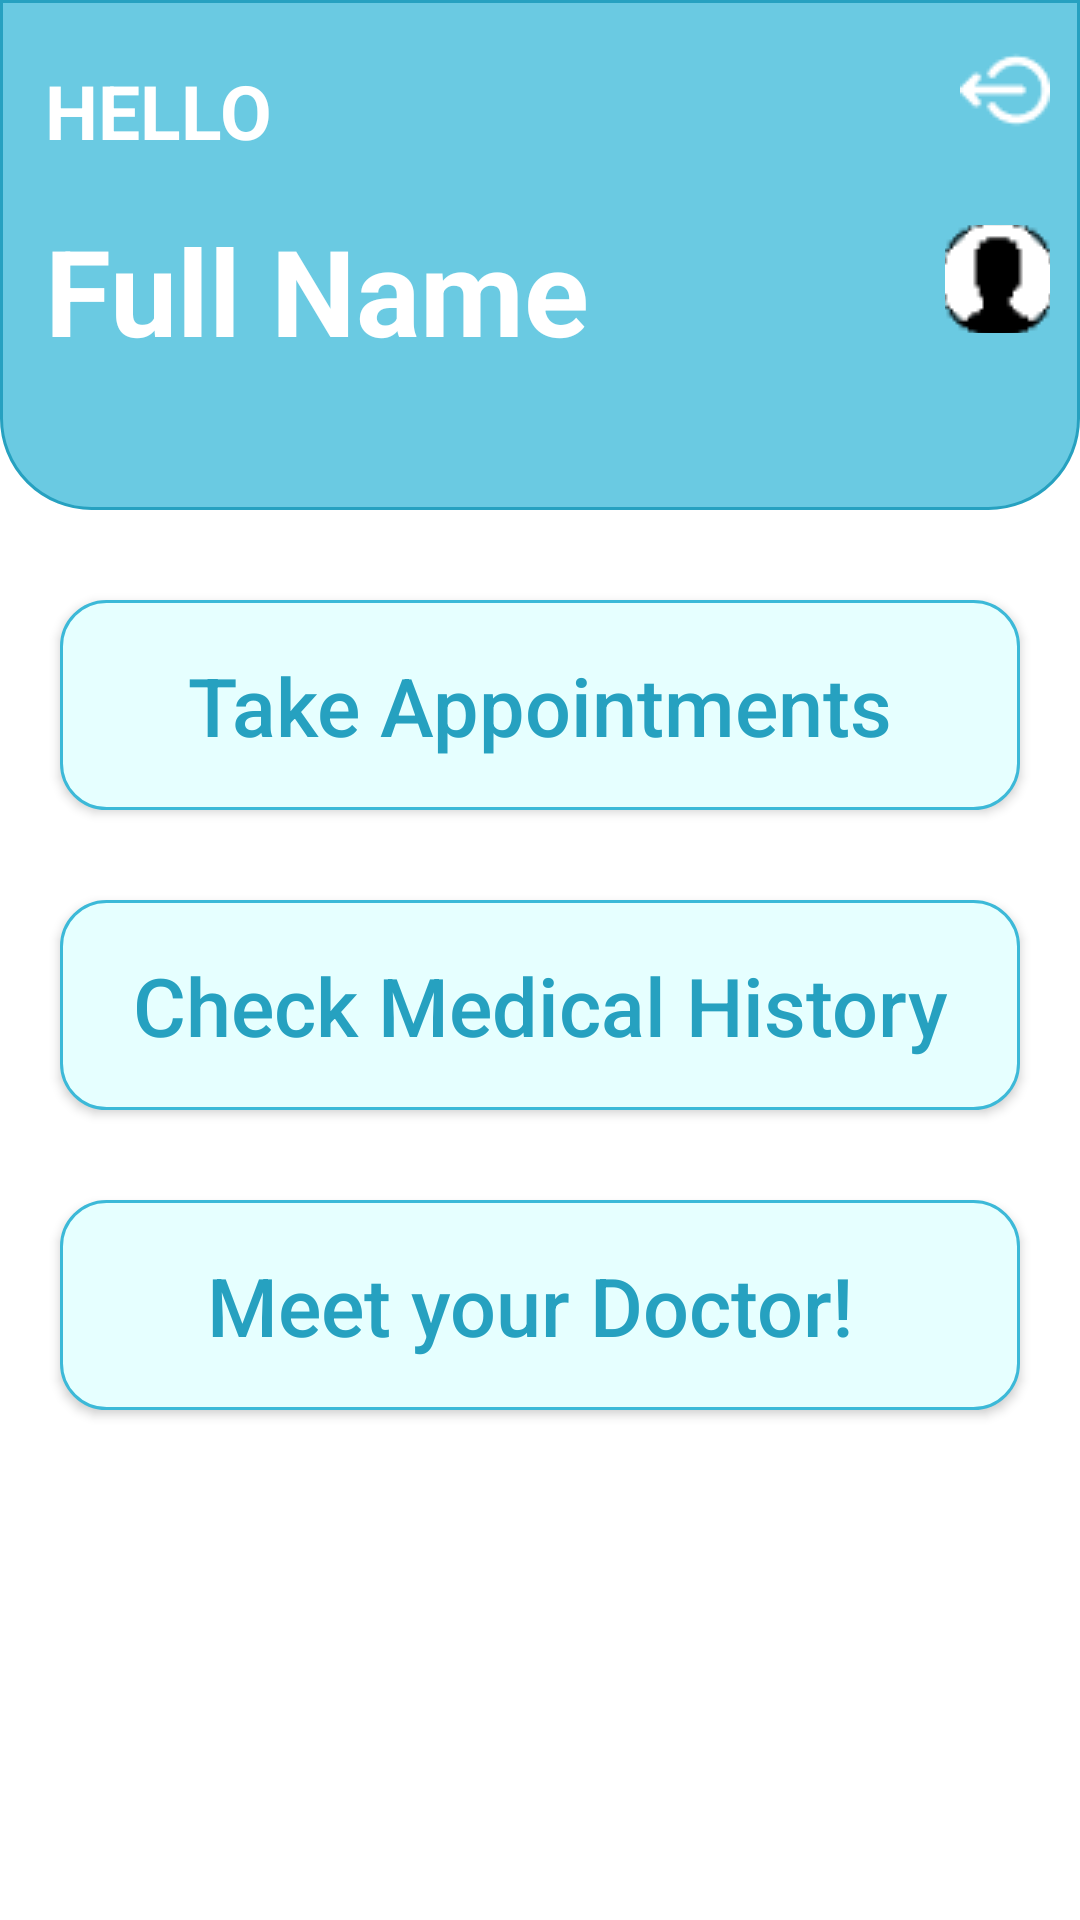

Screen size 1080×1920. Icon name, then its box in pixels as (x1, y1, x2, y2):
user: (945, 225, 1050, 333)
